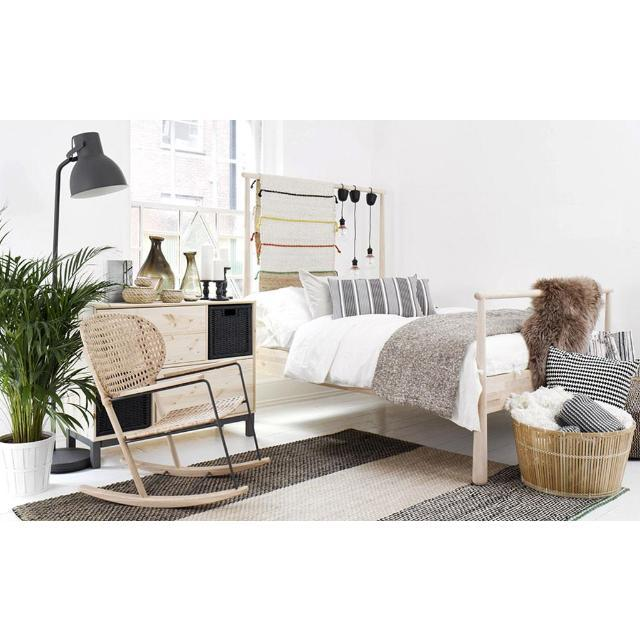armchair: (80, 313, 269, 508)
bed: (242, 173, 610, 484)
lamp: (52, 132, 128, 258)
pillow: (328, 277, 422, 317)
plant: (0, 246, 110, 495)
rug: (14, 429, 614, 520), (144, 474, 230, 494)
